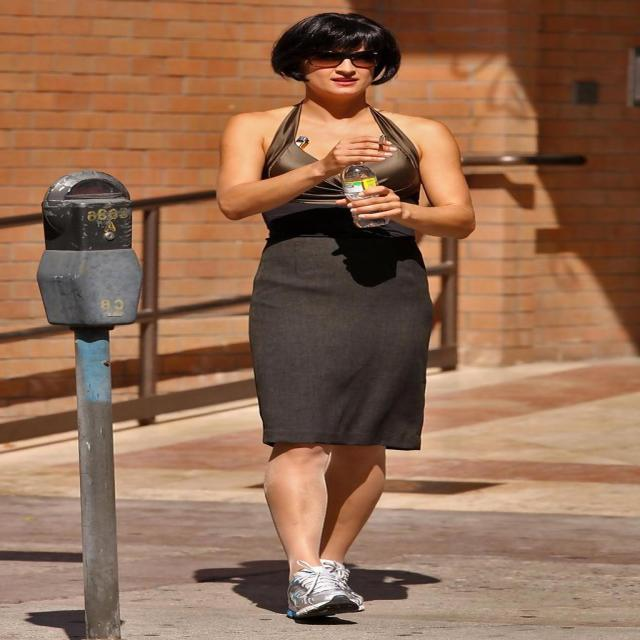smoking: (211, 5, 474, 170)
